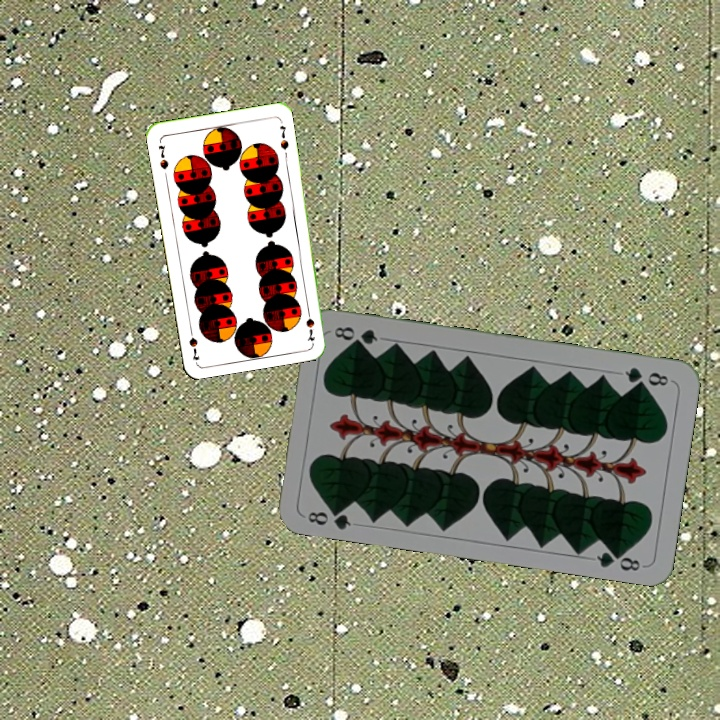G8: (304, 502, 354, 532), (621, 363, 671, 389)
S7: (302, 303, 317, 343), (154, 141, 171, 172)
